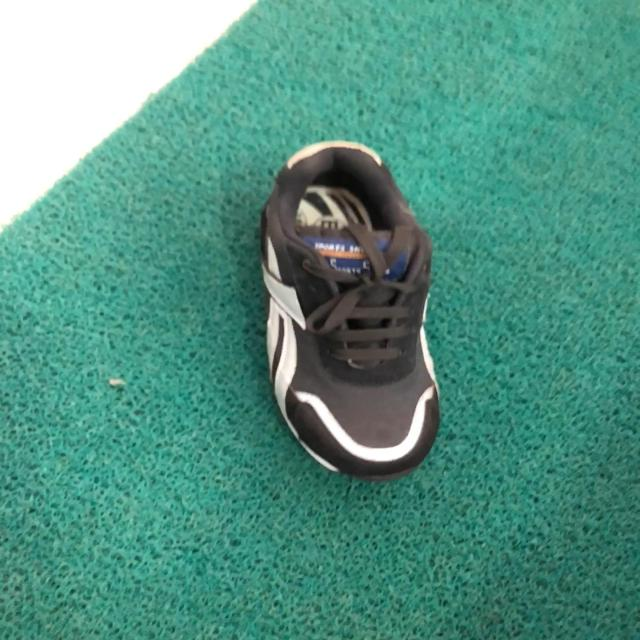shoe: (258, 142, 440, 480)
